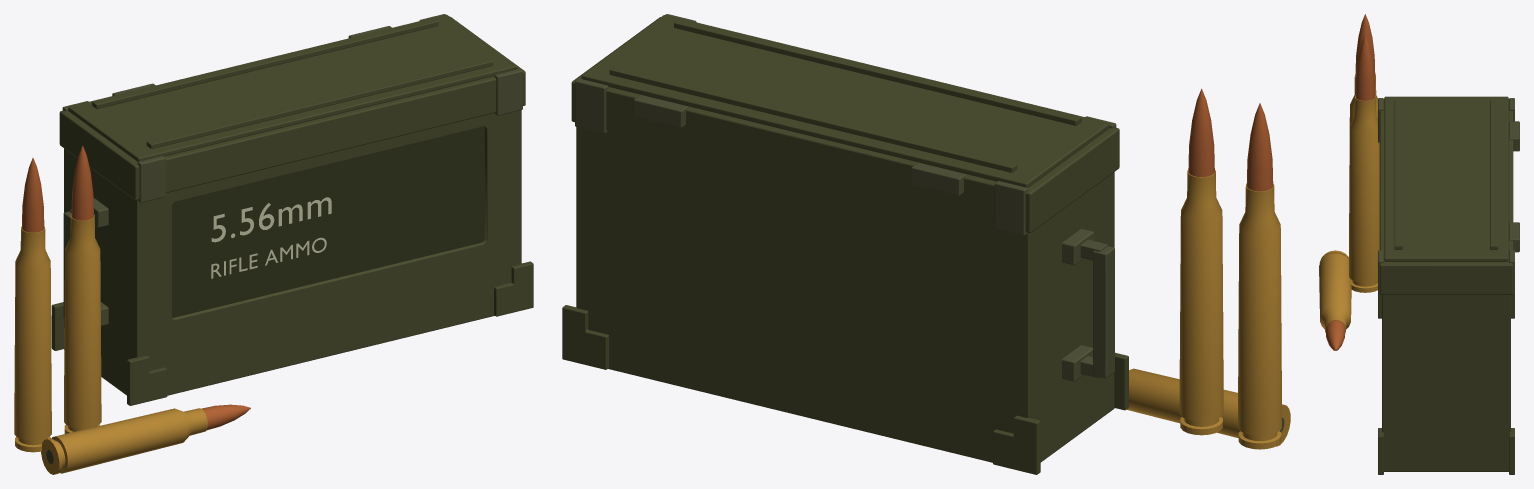
Rendered from rifle_rounds.glb.
The picture shows the model from 3 angles, left to right: view 1: azimuth 30°, elevation 25°; view 2: azimuth 150°, elevation 25°; view 3: azimuth 270°, elevation 25°; orthographic projection. The views are drawn at different scales.
Visible parts, largest first — view 1: Front shell_export, Inset front panel_export, Lid top_export, Lid skirt_export, Standing round A case_export, Standing round B case_export, Side wall_export, Loose round case_export, Crate bottom_export, Lid rail_export, Lid rail.001_export, Lower corner reinforcement_export (+9 smaller); view 2: Back wall_export, Lid top_export, Lid skirt_export, Side wall_export, Standing round B case_export, Standing round A case_export, Crate bottom_export, Lid rail.001_export, Lid rail_export, Loose round case_export, Side handle grip_export, Lower corner reinforcement.001_export (+9 smaller); view 3: Side wall.001_export, Lid top_export, Lid skirt_export, Standing round B case_export, Loose round case_export, Front shell_export, Back wall_export, Lid rail.001_export, Lid rail_export, Crate bottom_export, Standing round B bullet_export, Loose round bullet_export (+6 smaller).
Part boxes in pixels (x1,y1,x2,y2): Front shell_export: (132,110,521,384); Inset front panel_export: (172,126,484,317); Lid top_export: (68,14,517,161); Lid skirt_export: (59,16,525,200); Standing round A case_export: (14,226,51,452); Standing round B case_export: (64,214,101,433); Side wall_export: (68,151,145,384); Loose round case_export: (41,408,207,474); Crate bottom_export: (64,306,494,395); Lid rail_export: (146,58,493,148); Lid rail.001_export: (92,18,438,108); Lower corner reinforcement_export: (127,355,167,405); Back wall_export: (577,129,1034,457); Lid top_export: (581,15,1109,187); Lid skirt_export: (571,17,1119,232); Side wall_export: (1019,175,1109,449); Standing round B case_export: (1179,170,1223,435); Standing round A case_export: (1238,184,1281,449); Crate bottom_export: (608,357,1114,462); Lid rail.001_export: (609,66,1017,172); Lid rail_export: (674,19,1081,125); Loose round case_export: (1126,368,1290,446); Side handle grip_export: (1093,246,1114,378); Lower corner reinforcement.001_export: (993,415,1040,474); Side wall.001_export: (1382,294,1510,467); Lid top_export: (1384,96,1508,261); Lid skirt_export: (1379,99,1513,294); Standing round B case_export: (1349,95,1379,292); Loose round case_export: (1319,250,1351,332); Front shell_export: (1382,294,1390,467); Back wall_export: (1502,294,1510,467); Lid rail.001_export: (1490,100,1498,249); Lid rail_export: (1394,100,1402,249); Crate bottom_export: (1384,462,1508,471); Standing round B bullet_export: (1355,35,1375,100); Loose round bullet_export: (1325,320,1345,350).
Bounding box in the file's own units: 0.444 × 0.246 × 0.1683.
